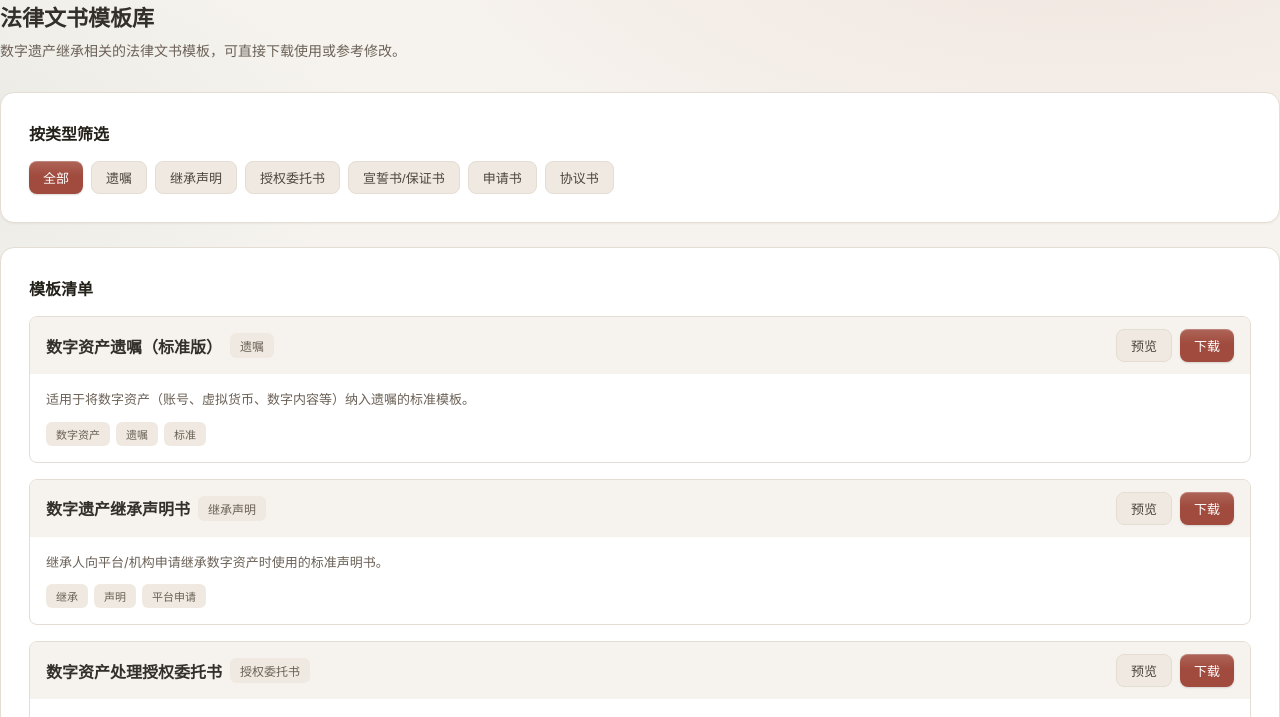
Test case: 类型筛选 › 筛选「继承声明」后只剩该类型
Click the button "继承声明" at (196, 178), box [155,161,237,194]
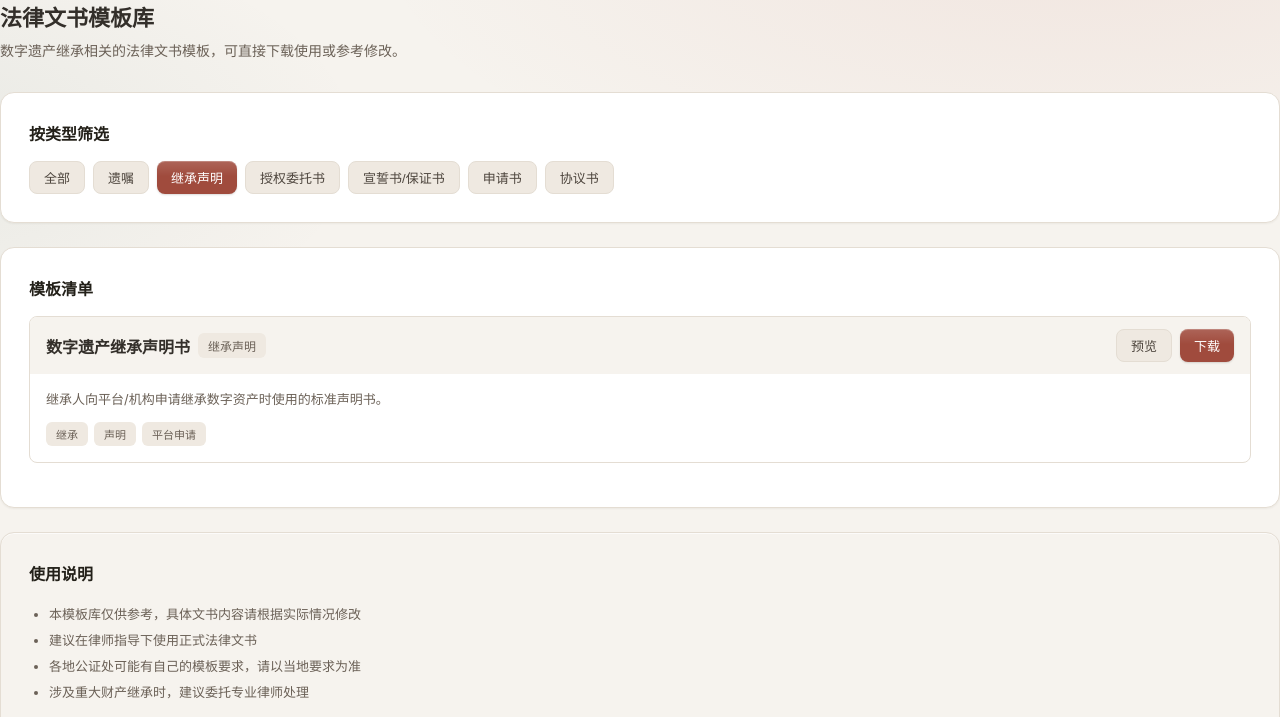
Expected: the text "数字遗产继承声明书" is shown, [46,334,190,358]
Result: the text "数字资产遗嘱（标准版）" is gone
